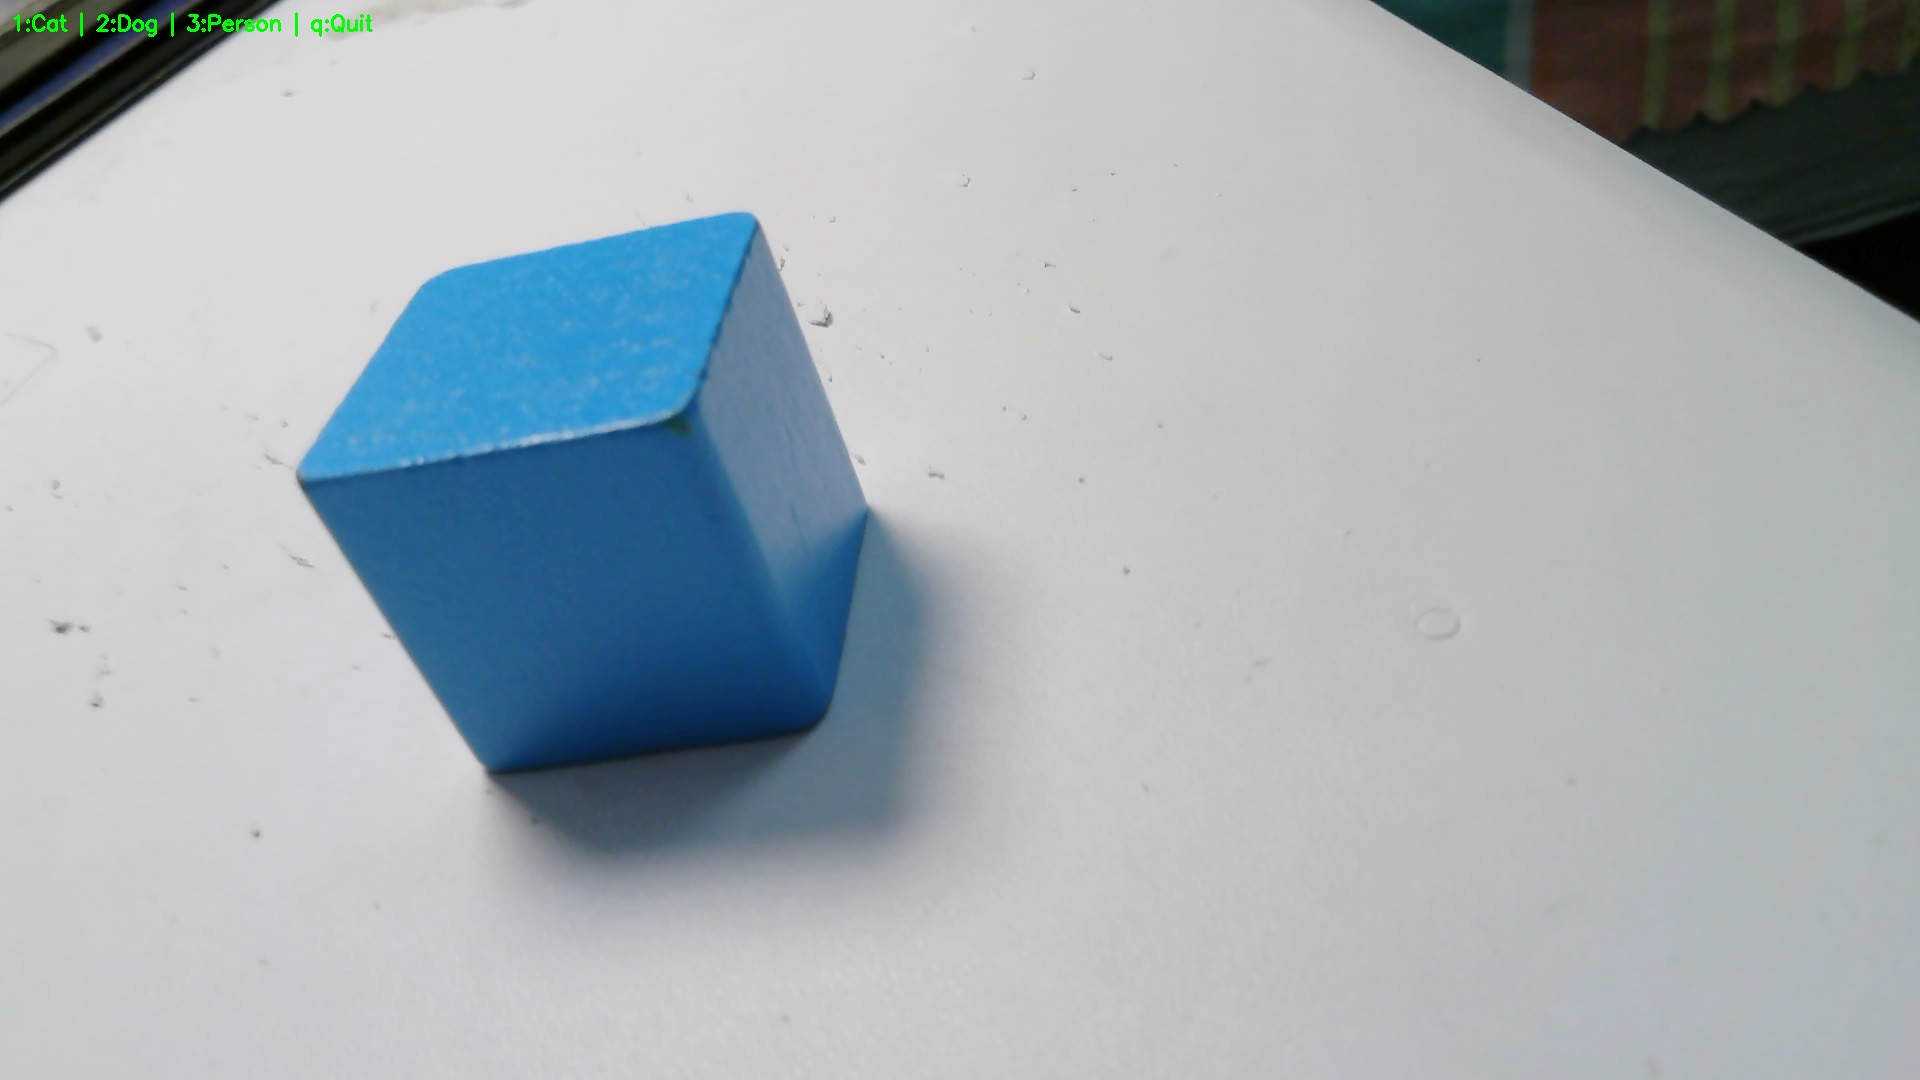blue: (295, 207, 878, 774)
